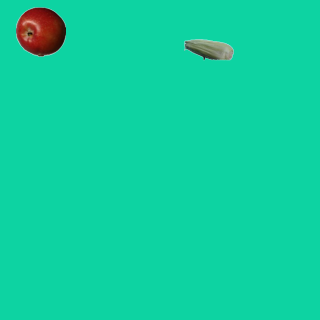Apple Braeburn: (15, 6, 65, 56)
Corn Husk: (183, 24, 233, 74)
